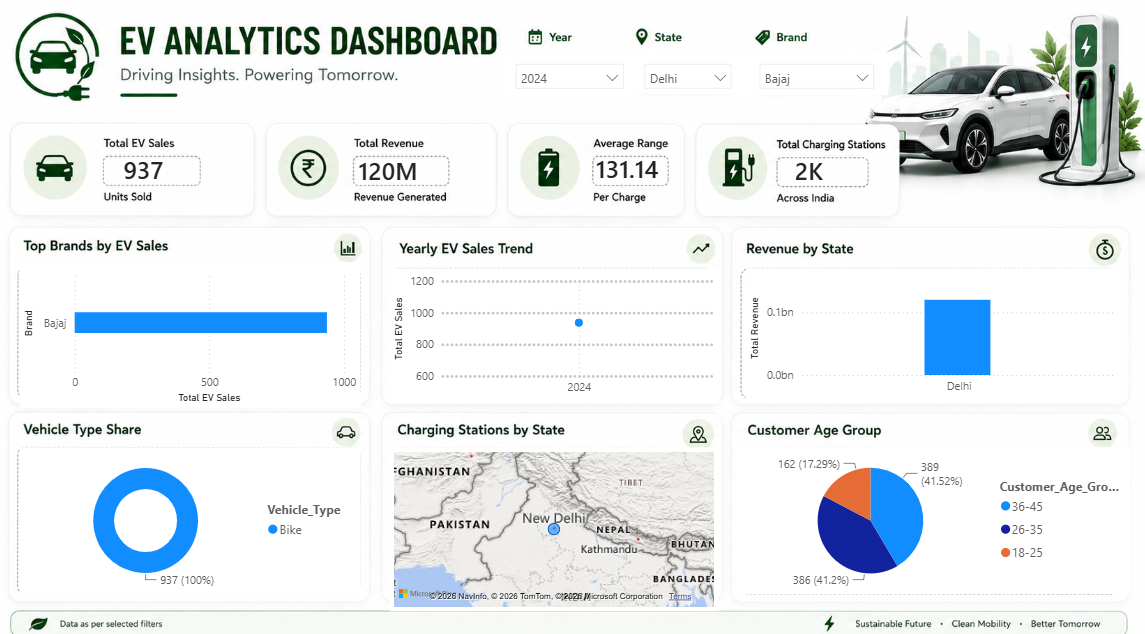

The page's visual inventory and layout, read from the dashboard file:
{"tool":"powerbi","page":{"name":"Page 1","canvas":[1280,720],"ordinal":0},"visuals":[{"type":"cardVisual","title":"Total EV Sales","fields":{"Data":["EV_Sales_Dataset.Total EV Sales"]},"box":[121.4,168.6,125.7,64.3],"z":0},{"type":"cardVisual","title":"Total Revenue","fields":{"Data":["EV_Sales_Dataset.Total Revenue"]},"box":[378.6,157.1,170,88.6],"z":1000},{"type":"cardVisual","title":"AVG. Charging","fields":{"Data":["EV_Sales_Dataset.Average Range"]},"box":[640,154.3,162.9,91.4],"z":2000},{"type":"clusteredBarChart","title":"Top Brands by EV Sales.","fields":{"Category":["EV_Sales_Dataset.Brand"],"Y":["EV_Sales_Dataset.Total EV Sales"]},"box":[35.7,297.1,374.3,160],"z":3000},{"type":"lineChart","title":"Yearly EV Sales Trend.","fields":{"Y":["EV_Sales_Dataset.Total EV Sales"],"Category":["EV_Sales_Dataset.Year"]},"box":[441.9,304.6,362.3,148.2],"z":4000},{"type":"clusteredColumnChart","title":"Revenue by State.","fields":{"Category":["EV_Sales_Dataset.State"],"Y":["EV_Sales_Dataset.Total Revenue"]},"box":[832.9,304.3,411.4,147.1],"z":5000},{"type":"donutChart","fields":{"Category":["EV_Sales_Dataset.Vehicle_Type"],"Y":["EV_Sales_Dataset.Total EV Sales"]},"box":[35.7,501.4,374.3,161.4],"z":6000},{"type":"map","title":"Charging Stations by State.","fields":{"Category":["EV_Sales_Dataset.State"],"Size":["EV_Sales_Dataset.Total Charging Stations"]},"box":[441.4,501.4,361.4,180],"z":7000},{"type":"pieChart","title":"Customer Age Group Analysis","fields":{"Category":["EV_Sales_Dataset.Customer_Age_Group"],"Y":["EV_Sales_Dataset.Total EV Sales"]},"box":[822.9,501.4,431.4,161.4],"z":8000},{"type":"slicer","fields":{"Values":["EV_Sales_Dataset.State"]},"box":[707.1,67.1,125.7,45.7],"z":9000},{"type":"slicer","fields":{"Values":["EV_Sales_Dataset.Year"]},"box":[565.7,67.1,148.6,51.4],"z":10000},{"type":"slicer","title":"Brand","fields":{"Values":["EV_Sales_Dataset.Brand"]},"box":[832.9,67.1,155.7,47.1],"z":11000},{"type":"cardVisual","fields":{"Data":["EV_Sales_Dataset.Total Charging Stations"]},"box":[857.1,170,107.1,64.3],"z":12000}]}

Visuals, with their boxes in screenshot pixels (x1, y1, x2, y2), scaled from the page's 1280x720 canvas onto the 1145x634 screenshot:
"Total EV Sales" cardVisual: [x1=109, y1=148, x2=221, y2=205]
"Total Revenue" cardVisual: [x1=339, y1=138, x2=491, y2=216]
"AVG. Charging" cardVisual: [x1=572, y1=136, x2=718, y2=216]
"Top Brands by EV Sales." clusteredBarChart: [x1=32, y1=262, x2=367, y2=403]
"Yearly EV Sales Trend." lineChart: [x1=395, y1=268, x2=719, y2=399]
"Revenue by State." clusteredColumnChart: [x1=745, y1=268, x2=1113, y2=397]
donutChart - EV_Sales_Dataset.Vehicle_Type x EV_Sales_Dataset.Total EV Sales: [x1=32, y1=442, x2=367, y2=584]
"Charging Stations by State." map: [x1=395, y1=442, x2=718, y2=600]
"Customer Age Group Analysis" pieChart: [x1=736, y1=442, x2=1122, y2=584]
slicer - EV_Sales_Dataset.State: [x1=633, y1=59, x2=745, y2=99]
slicer - EV_Sales_Dataset.Year: [x1=506, y1=59, x2=639, y2=104]
"Brand" slicer: [x1=745, y1=59, x2=884, y2=101]
cardVisual - EV_Sales_Dataset.Total Charging Stations: [x1=767, y1=150, x2=863, y2=206]
